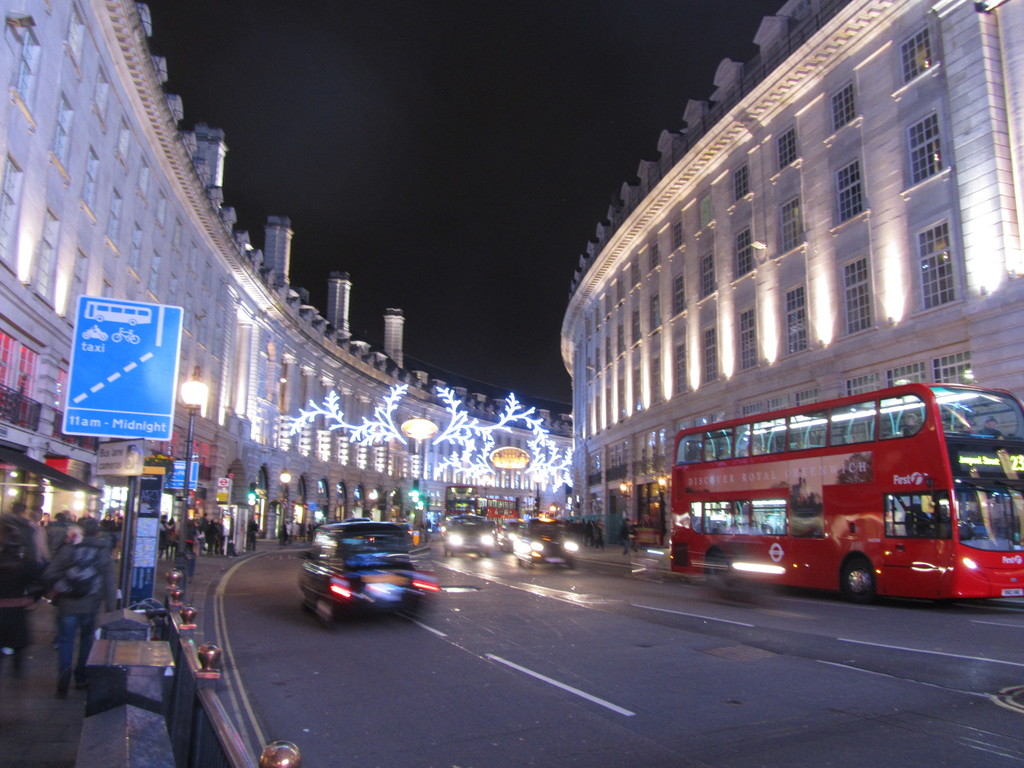Car: (302, 522, 441, 628), (508, 516, 576, 570), (433, 504, 502, 556)
